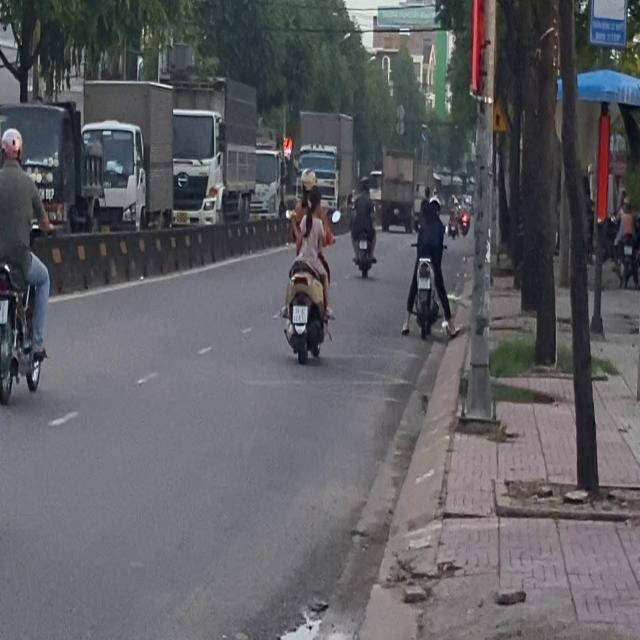helmet: (0, 127, 23, 165), (300, 168, 317, 197)
licenseplate: (0, 126, 51, 407), (279, 168, 333, 363)
motorcyclist: (306, 186, 321, 218)
nohelmet: (292, 304, 308, 322)
